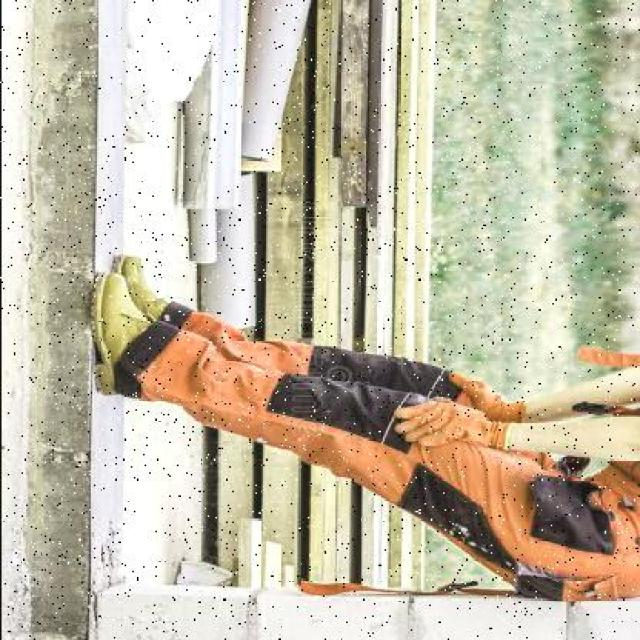shoes: (86, 280, 157, 397), (118, 256, 178, 316)
